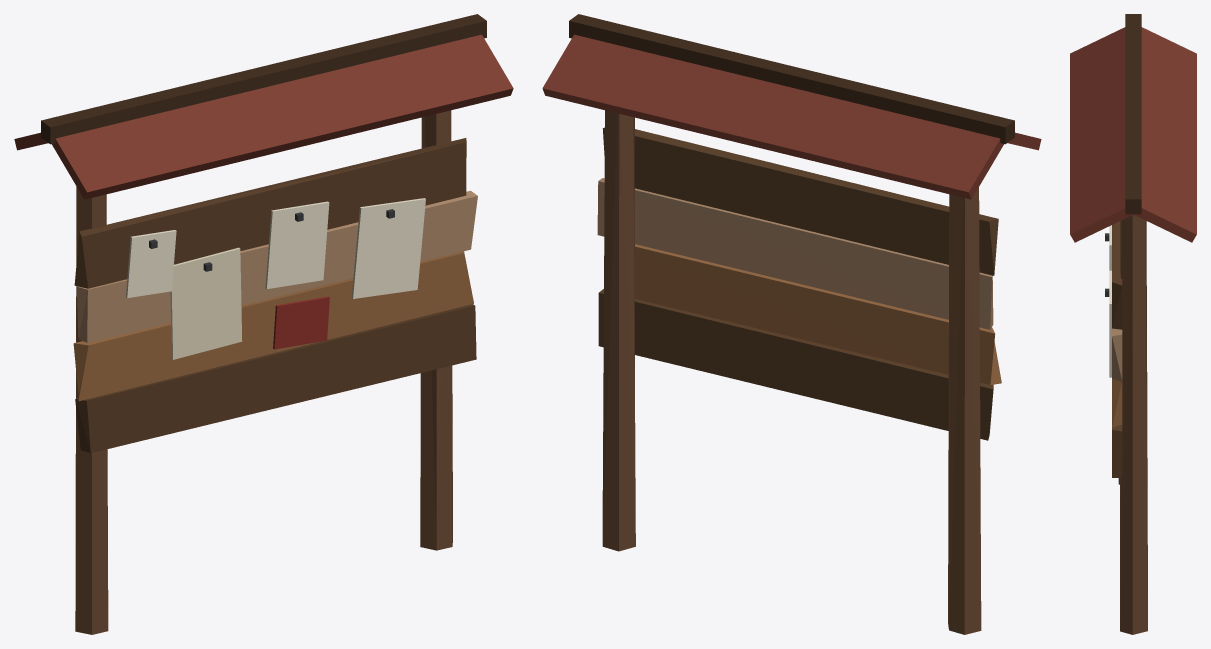
File: SM_NoticeBoard.fbx
3 views of the same model, side by side, from view 1: azimuth 30°, elevation 25°; view 2: azimuth 150°, elevation 25°; view 3: azimuth 270°, elevation 25° (orthographic). The views are drawn at different scales.
Parts seen in each view (by area): view 1: SM_NoticeBoard; view 2: SM_NoticeBoard; view 3: SM_NoticeBoard.
Part boxes in pixels (x1,y1,x2,y2): SM_NoticeBoard: (14,14,513,634); SM_NoticeBoard: (542,14,1041,634); SM_NoticeBoard: (1070,14,1196,634).
Size of the model in its own units: 2.15 by 2.42 by 0.6213.
